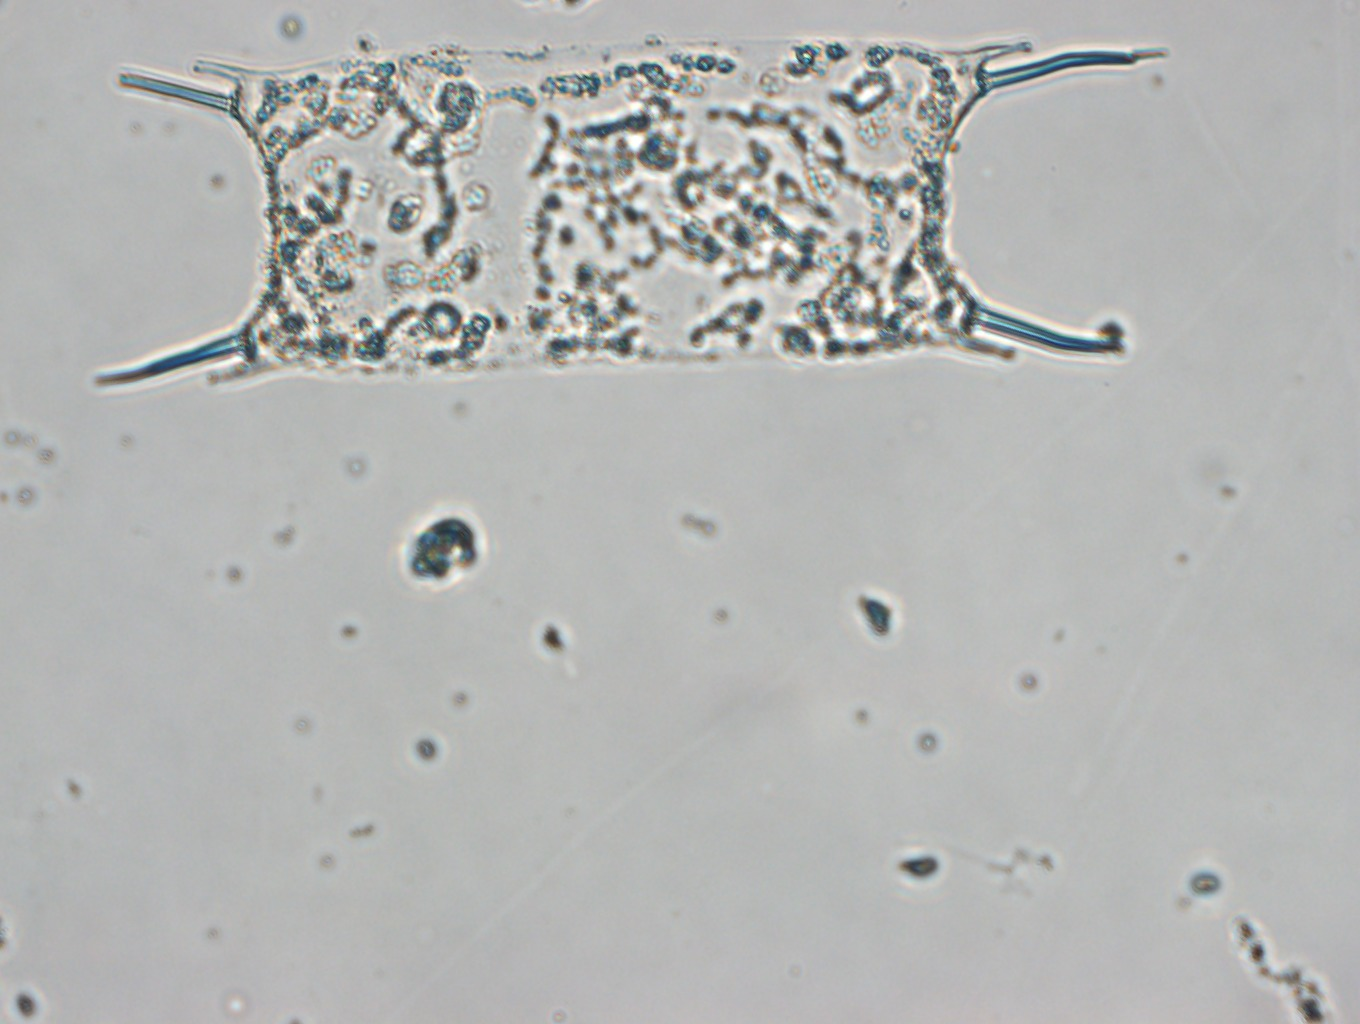biddulphia: (81, 32, 1165, 395)
